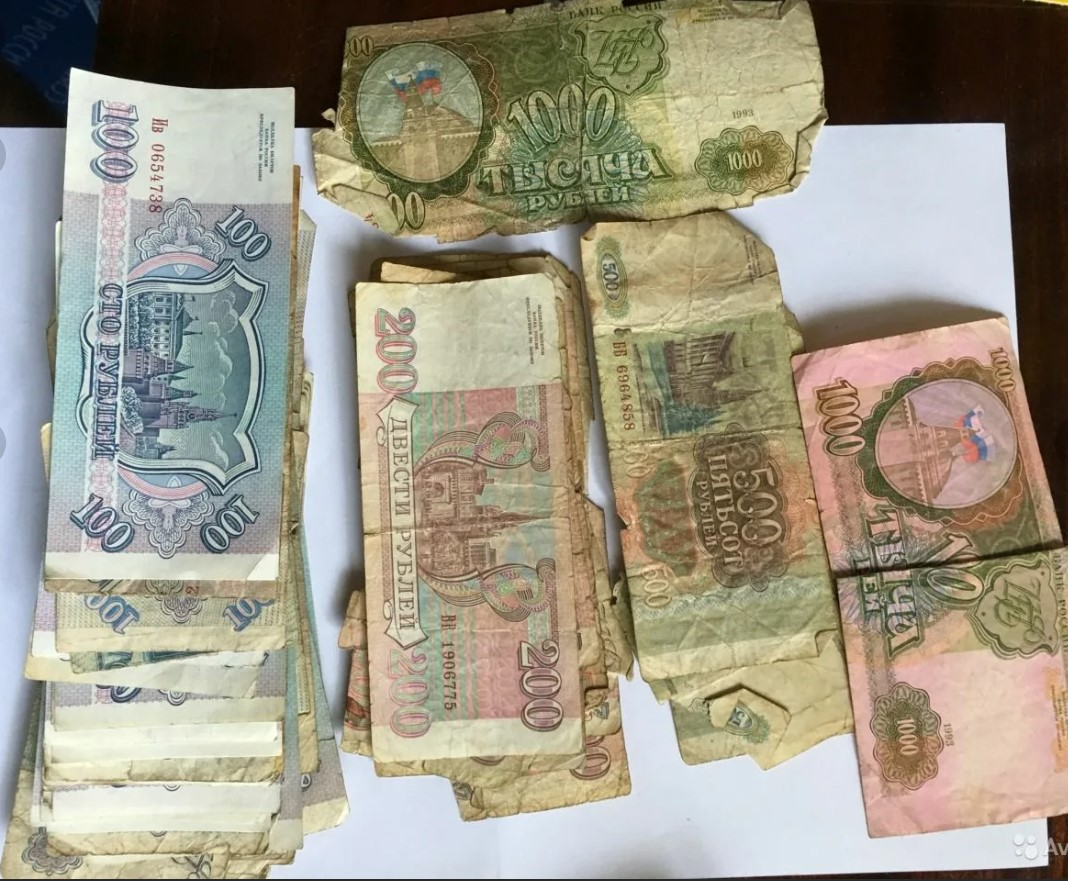cash: (790, 316, 1068, 840), (42, 67, 299, 583), (326, 1, 830, 240), (587, 208, 841, 681), (354, 272, 589, 763)
